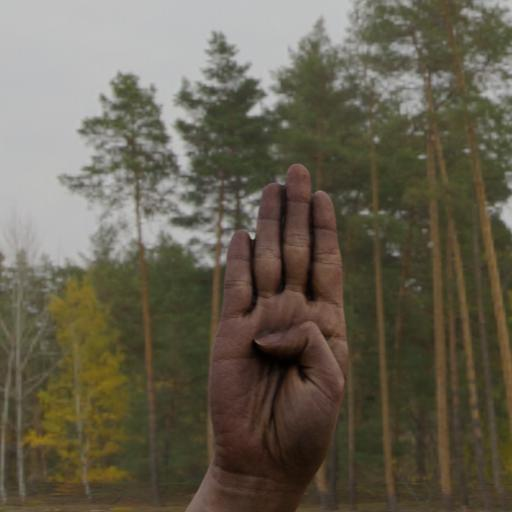B: (199, 161, 359, 496)
